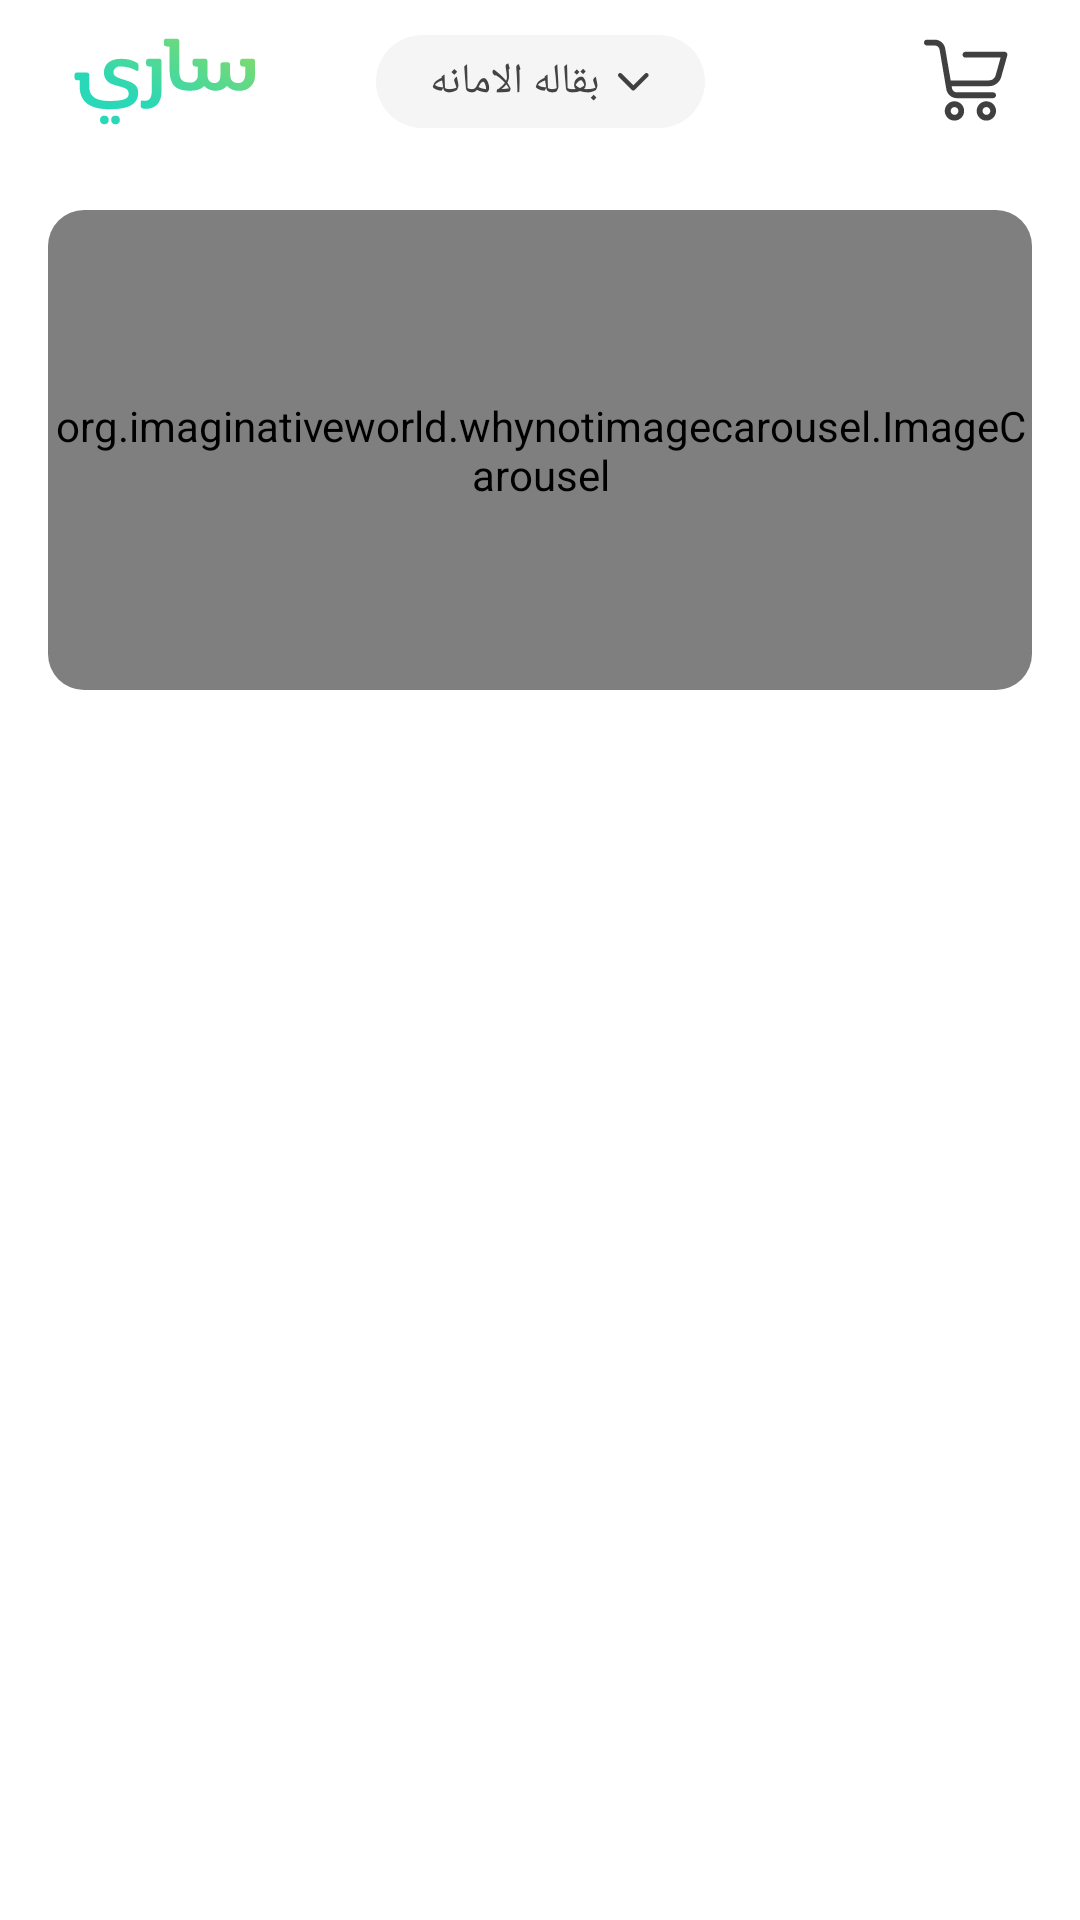

Icons on this 1080×1920 Android screen, each with the point to tap as (x=x, y=y):
cart: (x=966, y=80)
